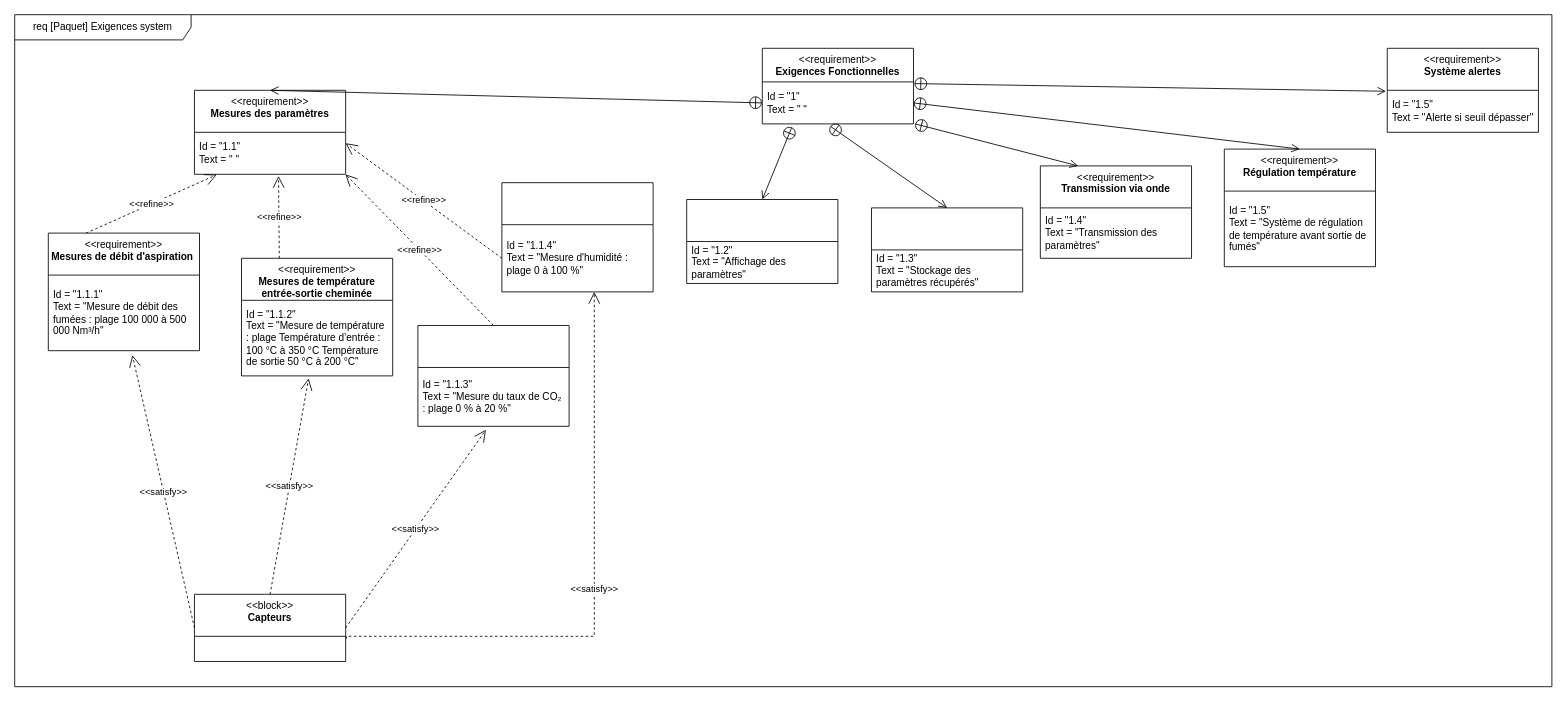
Image size: 1567x701. Some labels were removed from this diagram. The box of each missing label's shape, as (x1, y1, x2, y2) in pixels:
<<requirement>> Affichage graphique: (686, 199, 838, 284)
<<requirement>> Mesure l'humidité des fumées: (501, 182, 653, 292)
<<requirement>> Mesures du taux de CO₂: (417, 325, 569, 426)
<<requirement>> Stockage de données: (871, 207, 1023, 292)
